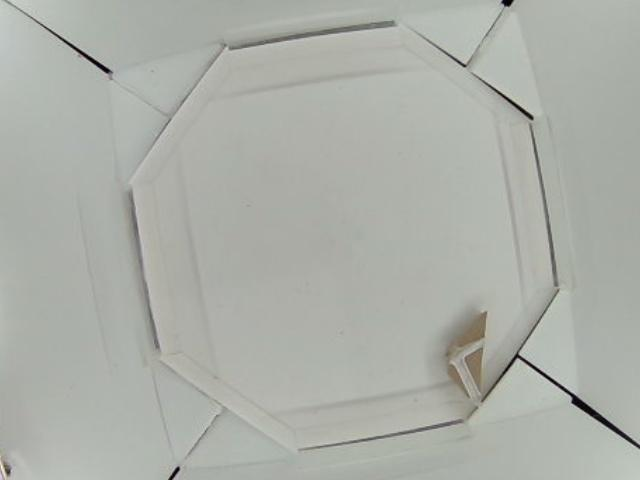China: (445, 310, 488, 404)
